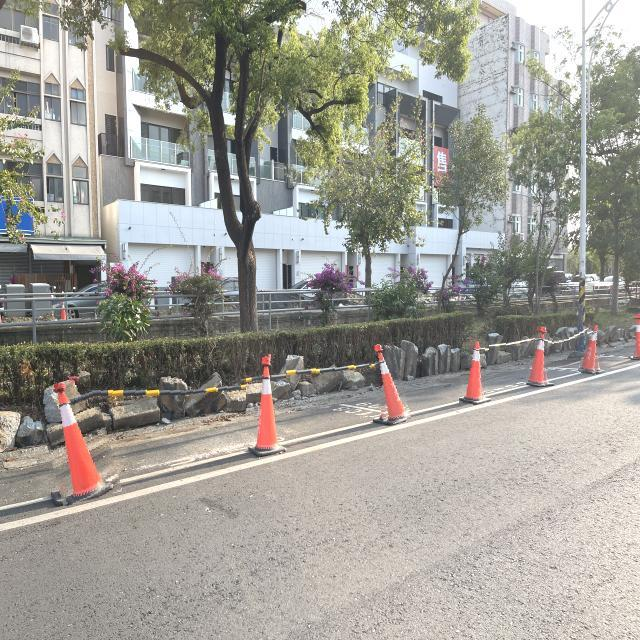car: (61, 281, 158, 320)
traffic cone: (50, 381, 113, 508), (247, 354, 287, 458), (371, 344, 409, 426), (458, 341, 492, 405), (526, 326, 555, 388), (577, 324, 604, 375), (630, 312, 640, 360)
